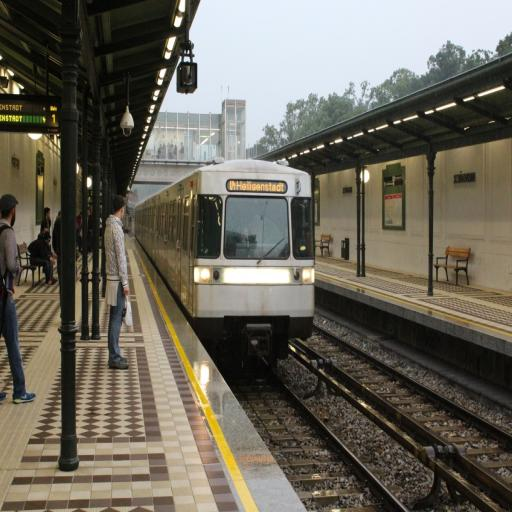Silberpfeil: (134, 161, 318, 339)
